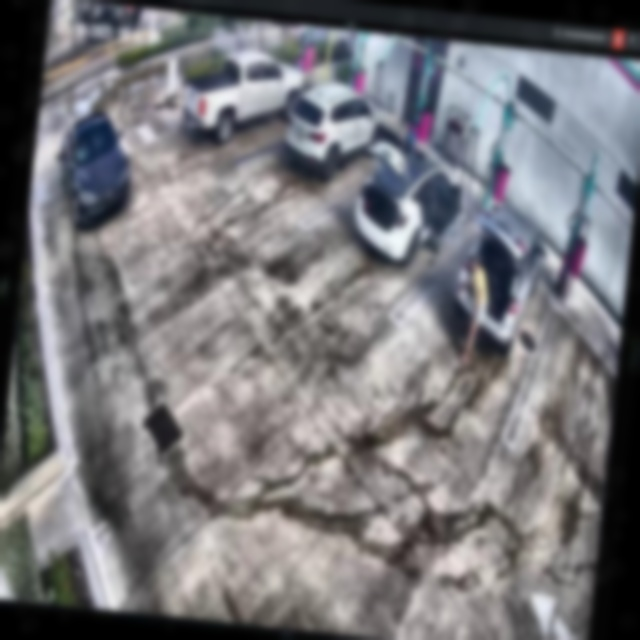Car: (348, 138, 466, 277), (450, 194, 549, 358), (283, 76, 388, 183)
